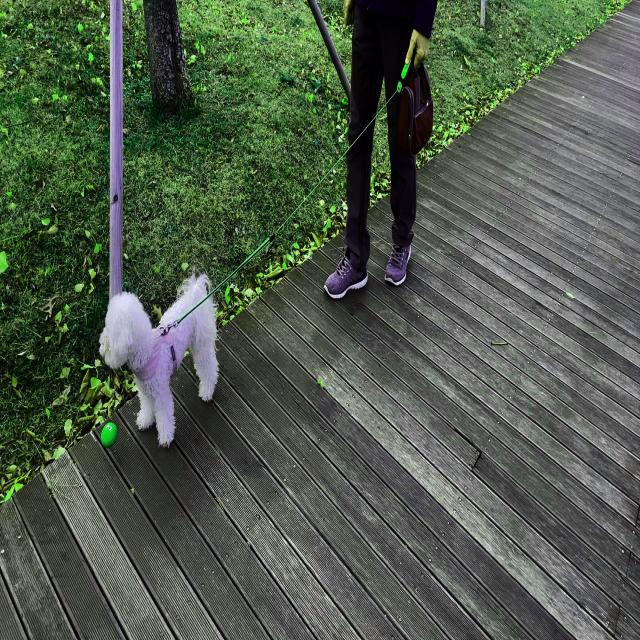Leashed_Dog: (100, 29, 433, 447)
